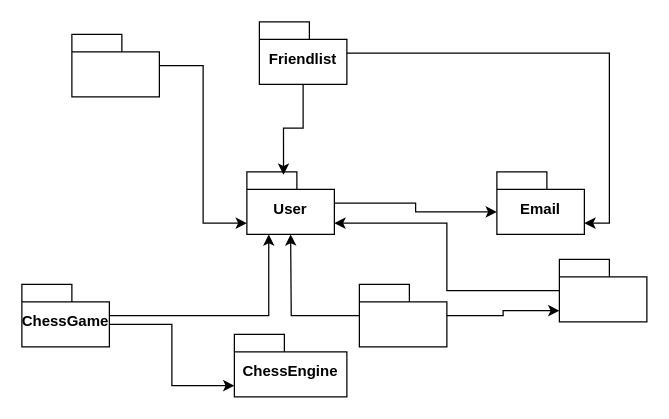
This 669x419 diagram has some shape labels left out. The shapes that lost their labels are listed below. From the top down, each one's centre as x and y in pixels, then its label:
At (115,65): "Security".
At (602,290): "Chat".
At (402,315): "ChessClub".
